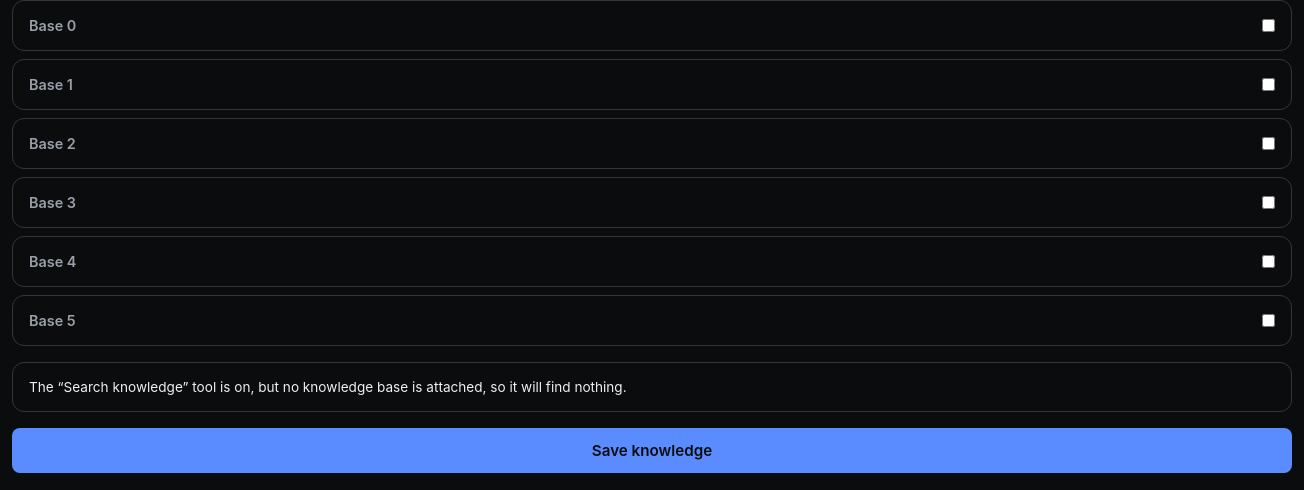
KnowledgeBindingsEditor › limits the choice to five bases
This screenshot has width=1304, height=490.
Click the checkbox labelled "Base 0" at (1268, 26), box [1262,19,1275,32]
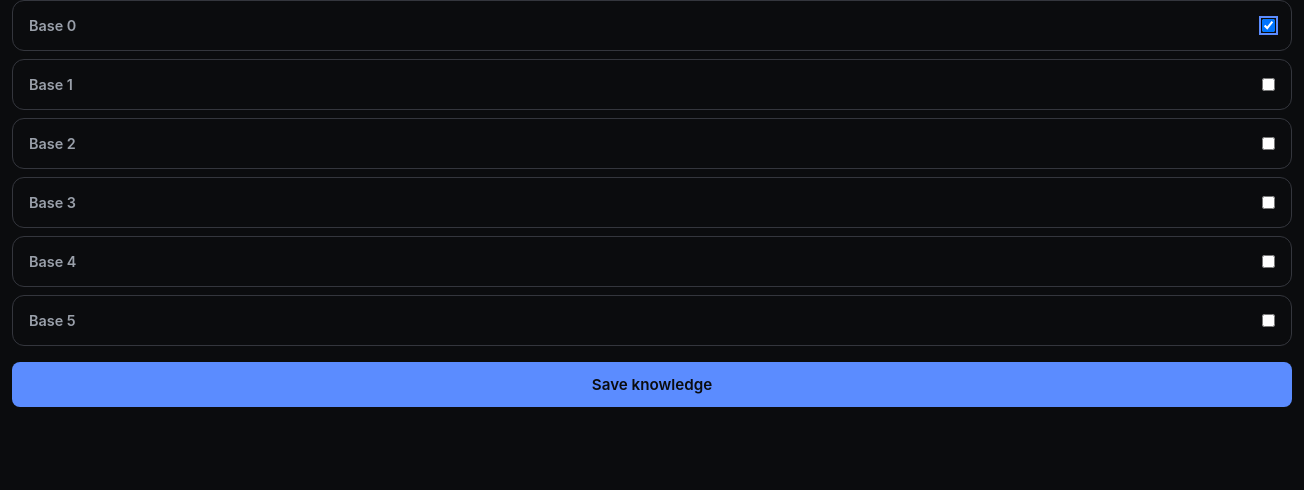
Click the checkbox labelled "Base 1" at (1268, 84), box [1262,78,1275,91]
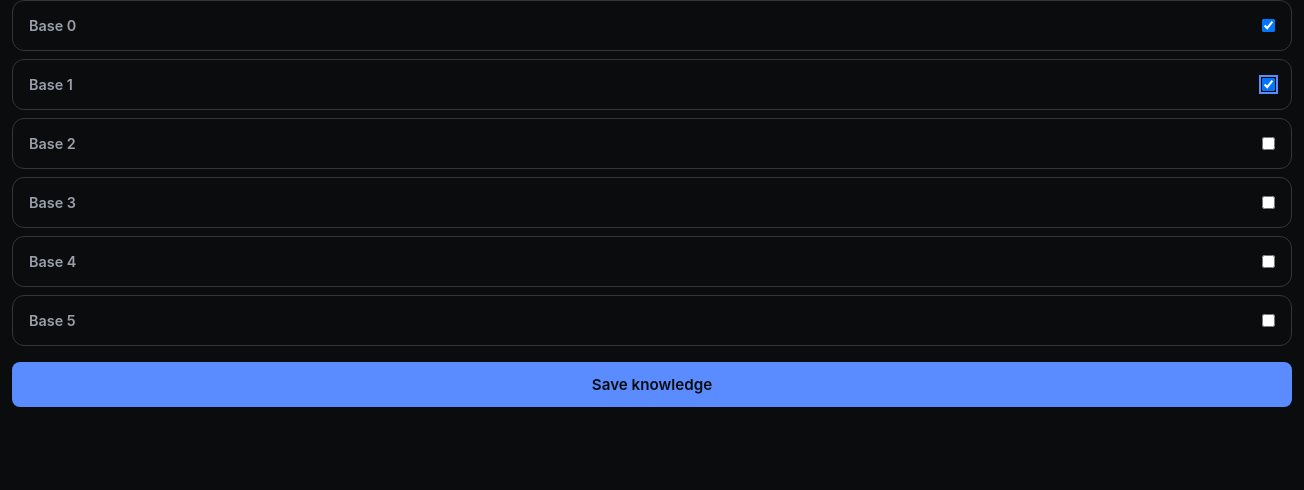
Click the checkbox labelled "Base 2" at (1268, 144), box [1262,137,1275,150]
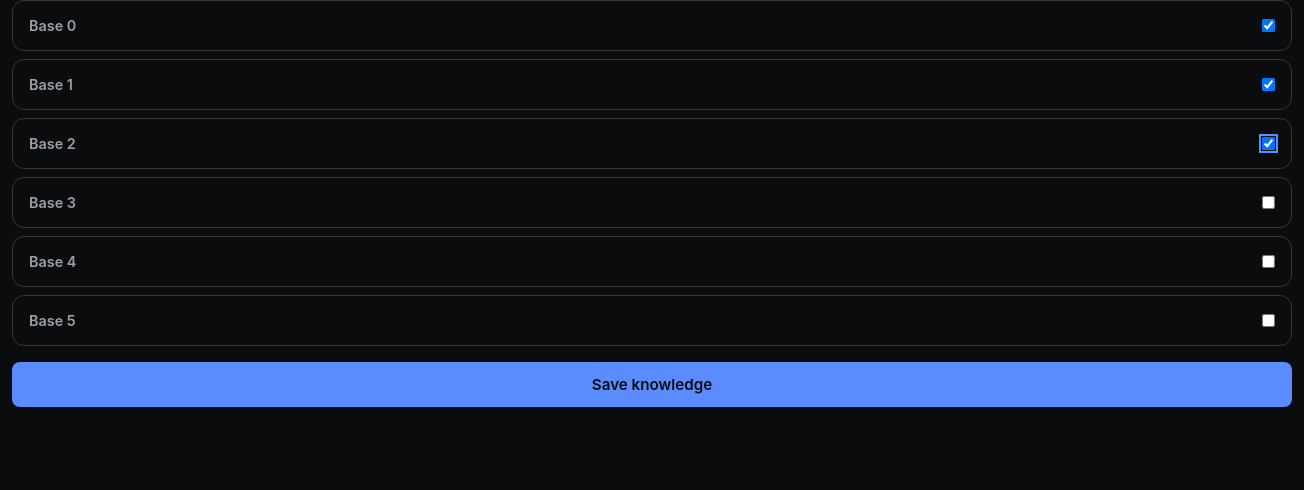
Click the checkbox labelled "Base 3" at (1268, 202), box [1262,196,1275,209]
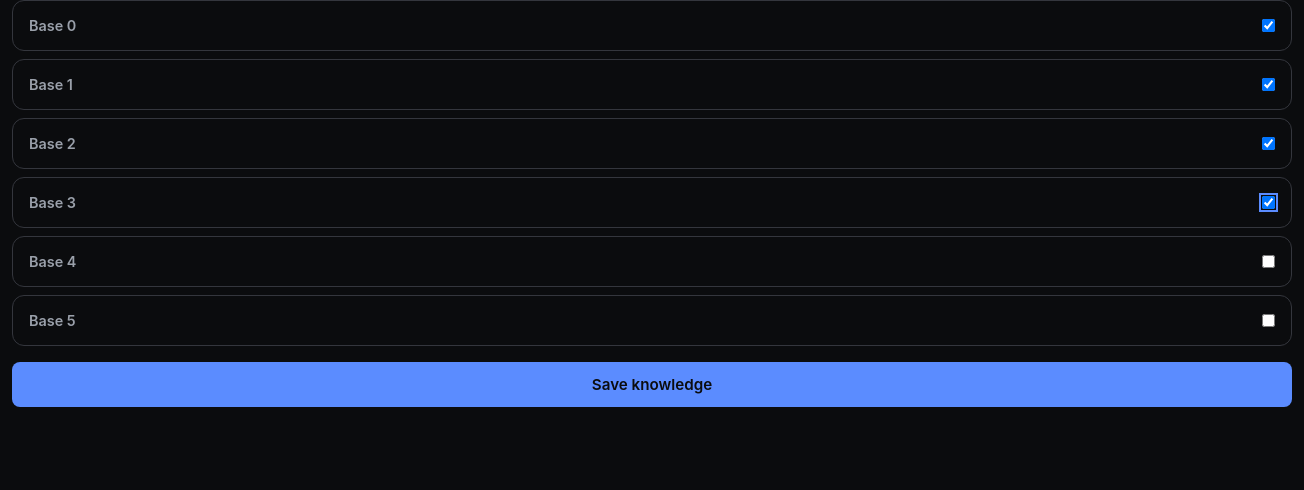
Click the checkbox labelled "Base 4" at (1268, 262), box [1262,255,1275,268]
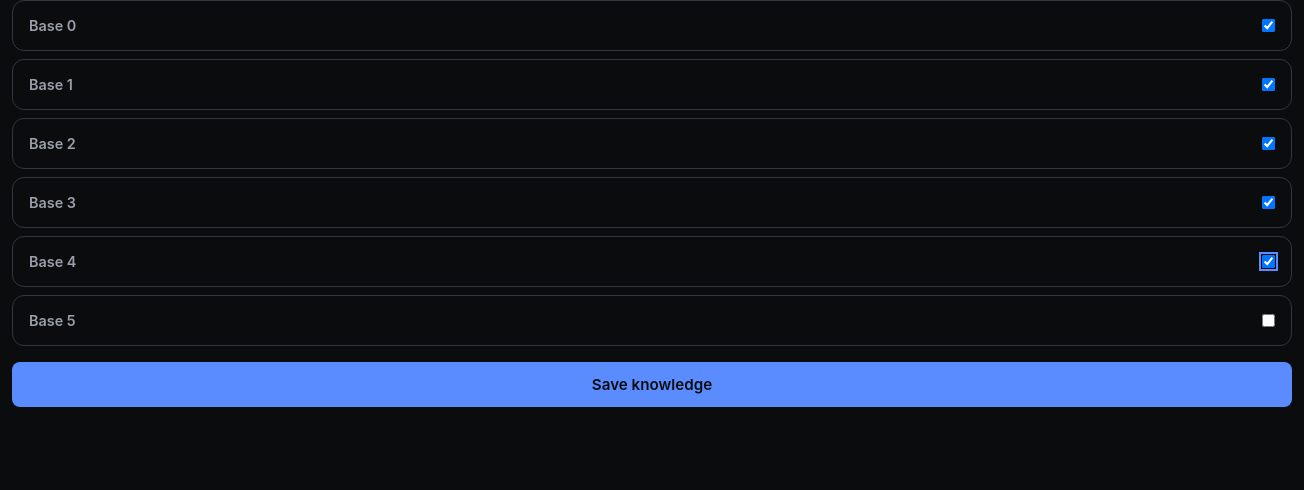
Click the checkbox labelled "Base 5" at (1268, 320), box [1262,314,1275,327]
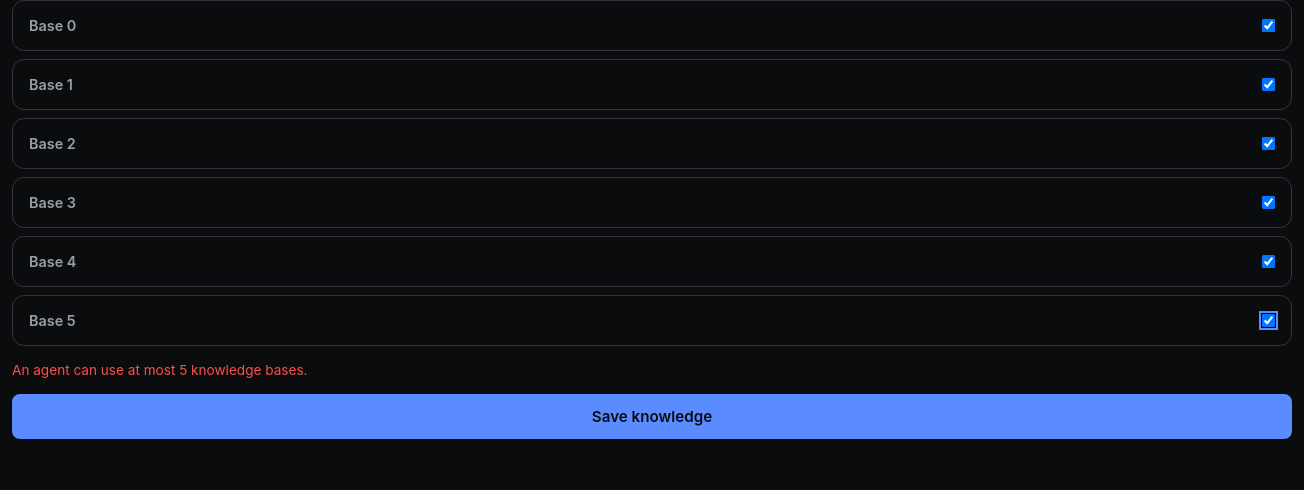
Expected: the message reads "An agent can use at most 5 knowledge bases.", [12,362,308,378]
